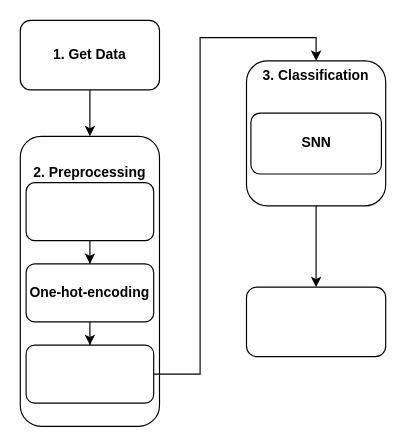
Some shapes in this 406 by 447 pixel diagram are drawn without their labels. Here are the shapes that lost their labels. From the top down, the centre of each, then its label:
At point 89,211: "Normalization".
At point 315,321: "4. Evaluation".
At point 89,373: "Feature Selection".
